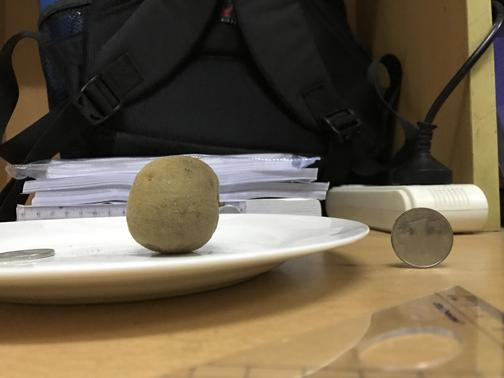coin: (392, 208, 454, 267)
qiwi: (122, 157, 221, 253)
